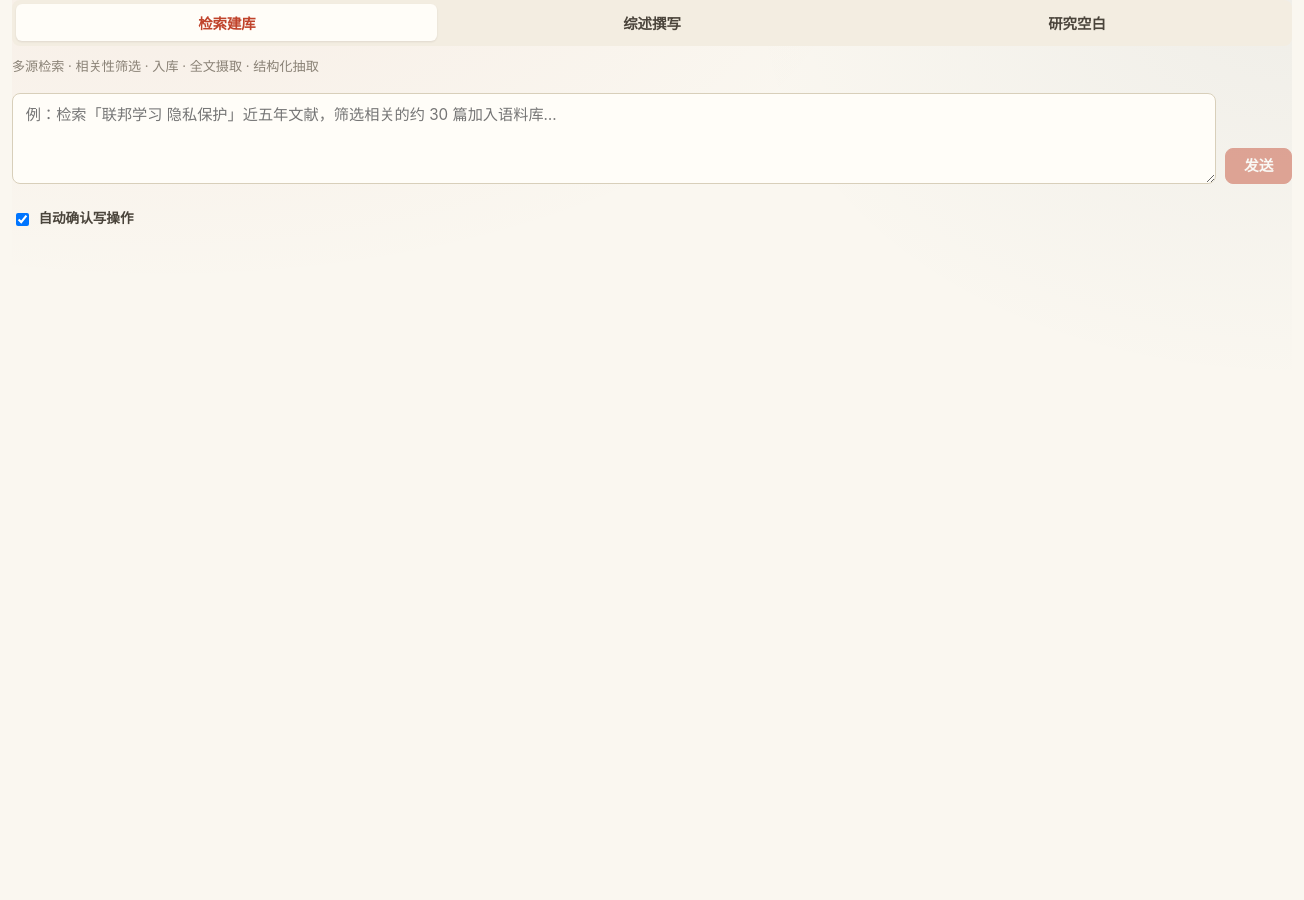
Test: AgentChat + RunTimeline › 渲染工具结果摘要 — '找到 42 篇文献'
Step 1. Type "分析文献" into the text box named "Agent 指令输入" → {"x": 614, "y": 138}, box [12,92,1216,184]
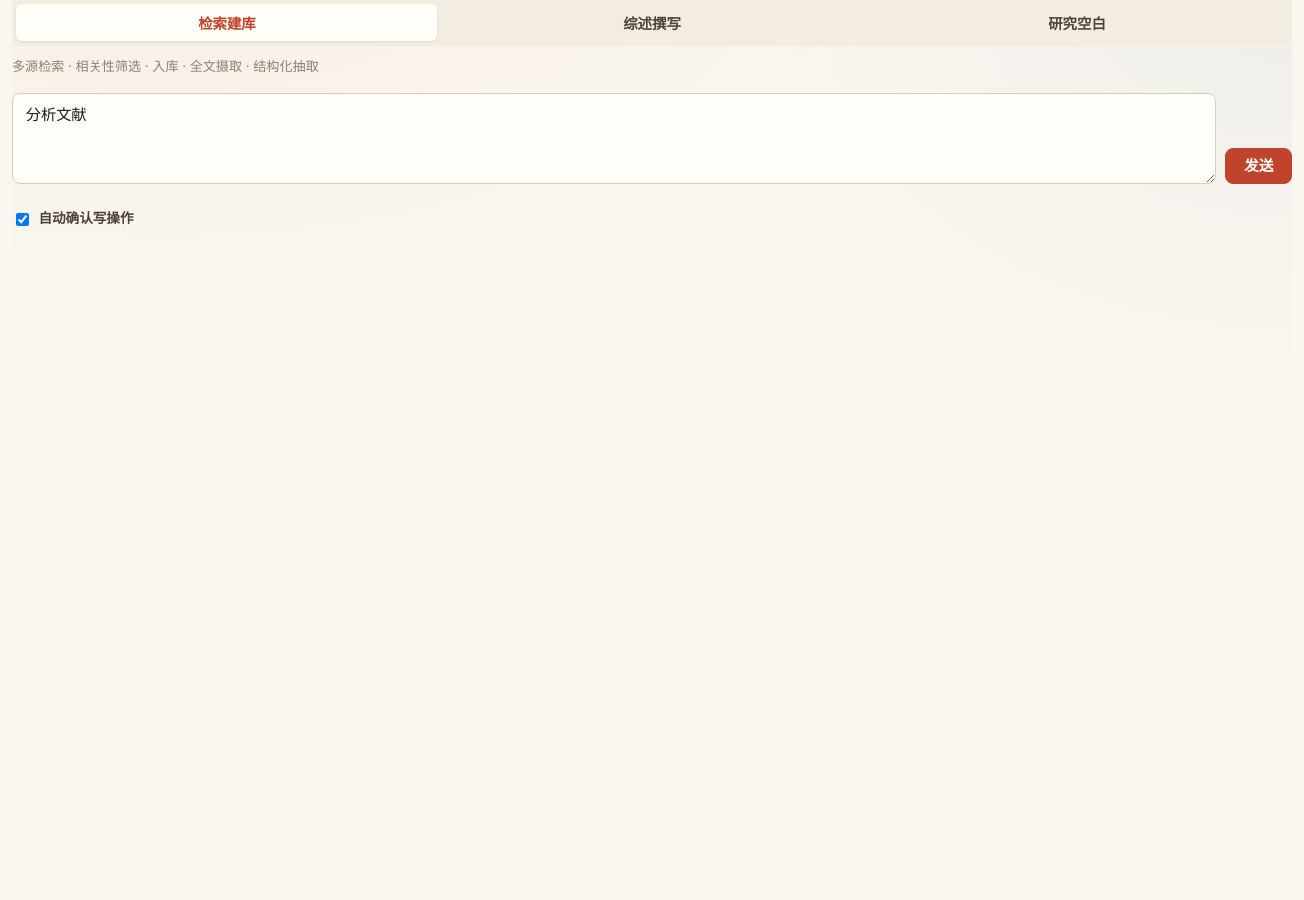
Step 2. Click the button "发送" → {"x": 1259, "y": 166}, box [1225,148,1292,184]
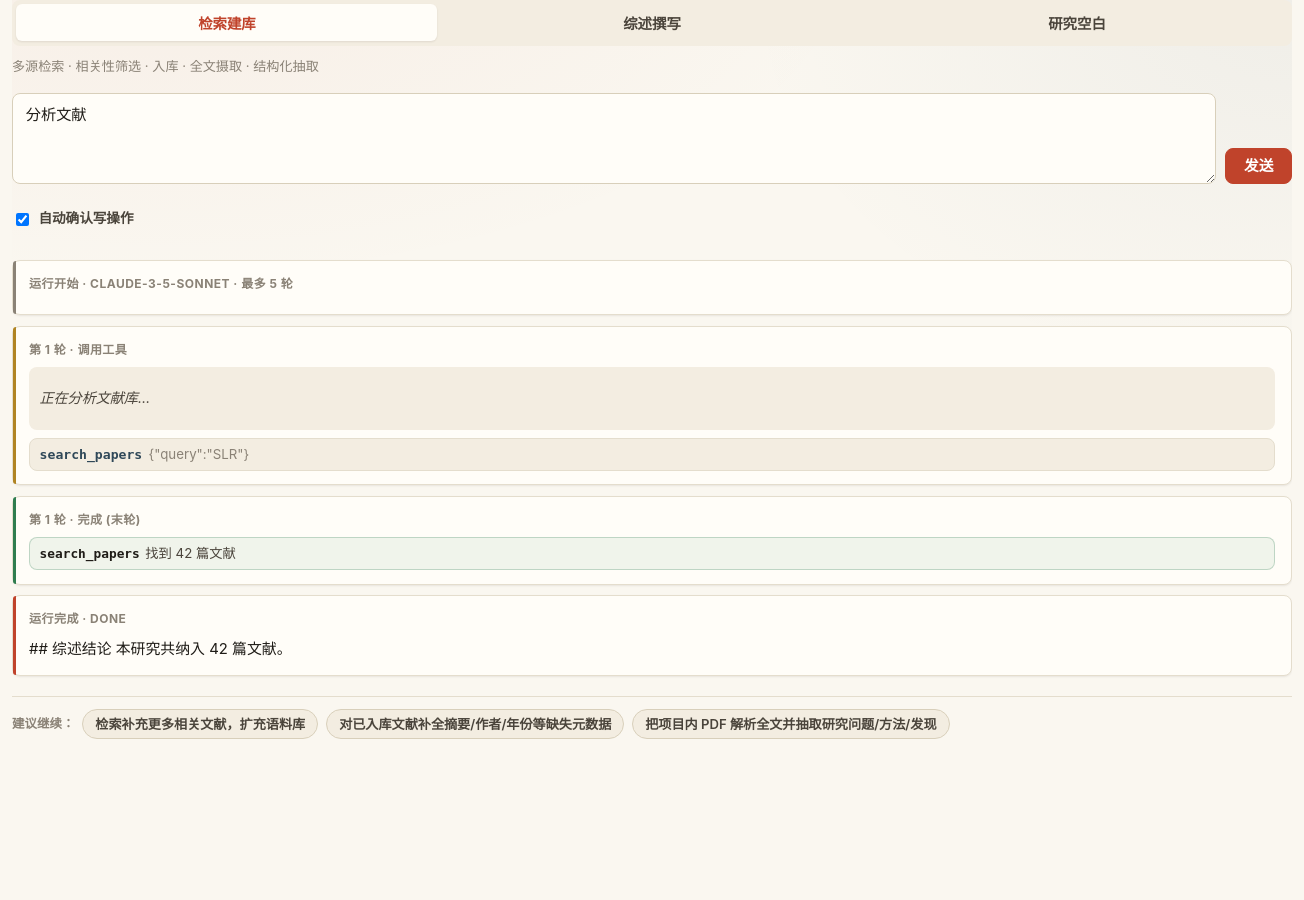
Expected: the text "找到 42 篇文献" is shown, [145,545,236,561]
